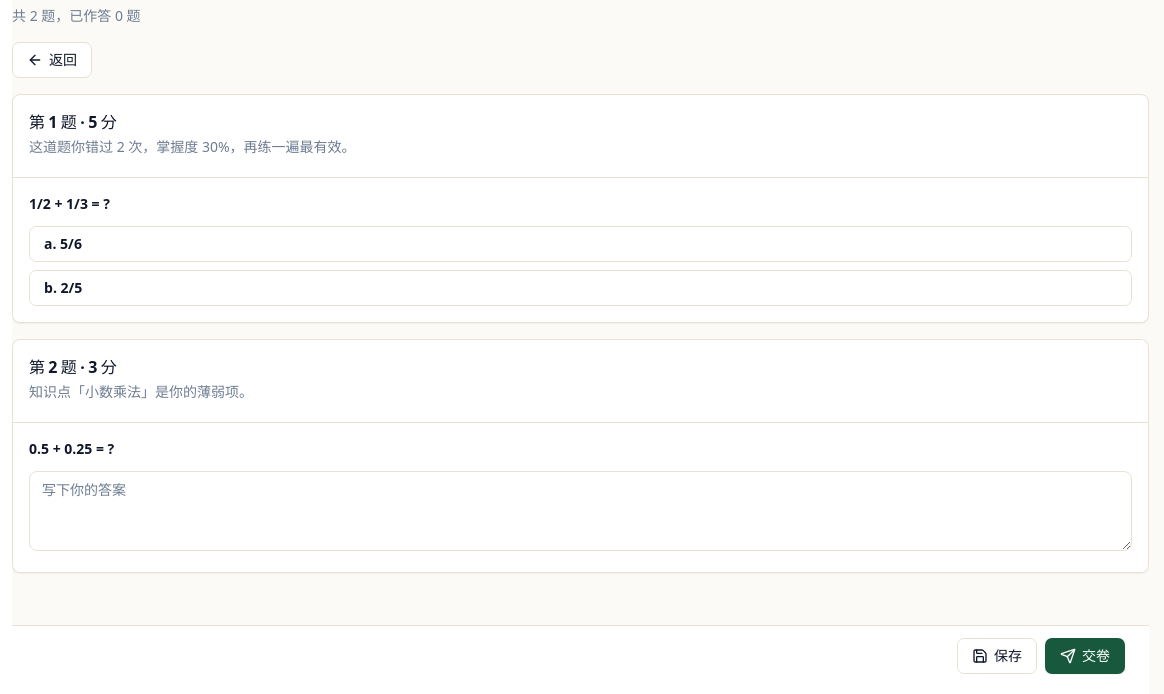
StudentAiStudyAttemptPage › reports the owner's verdicts and never a score for an unjudged question
Click the button "交卷" at (1085, 656), box [1045,638,1125,674]
(page scrolled)
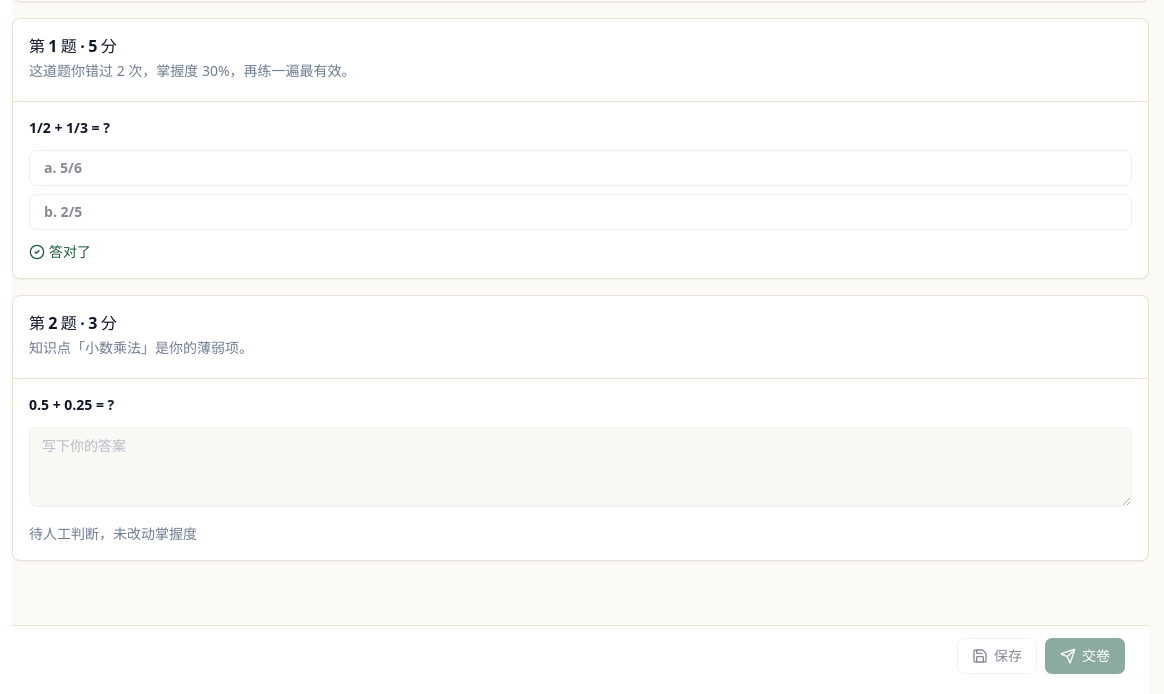
Expected: the text "答对了" is shown, [29,242,91,261]
Expected: the text "待人工判断，未改动掌握度" is shown, [29,524,197,543]
